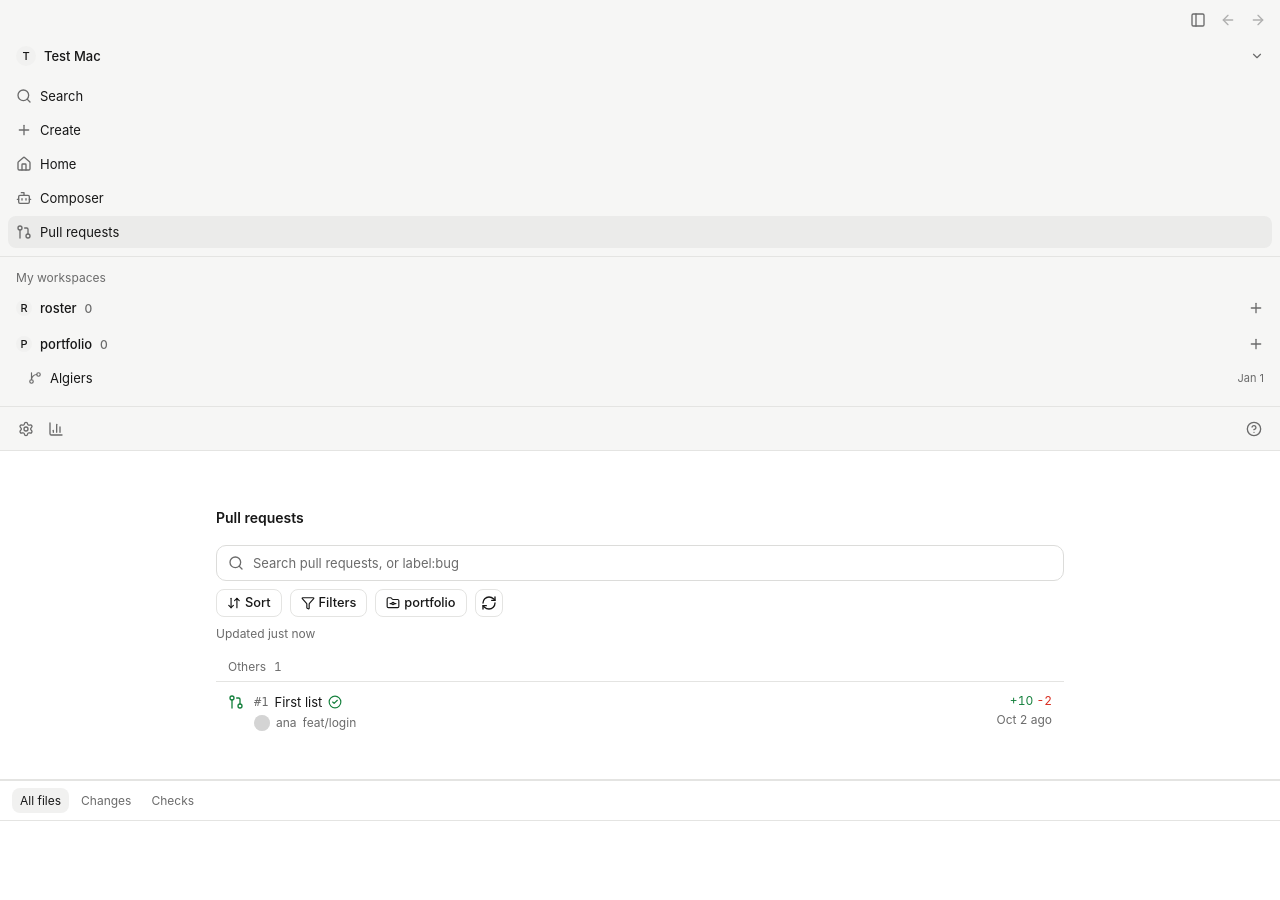
Test: the Pull requests page › keeps the list on screen while another project is loaded
Expected: the button "#1 First list" is shown, [216,684,1064,739]
Click the button "portfolio" at point(421, 603), box [375,589,467,617]
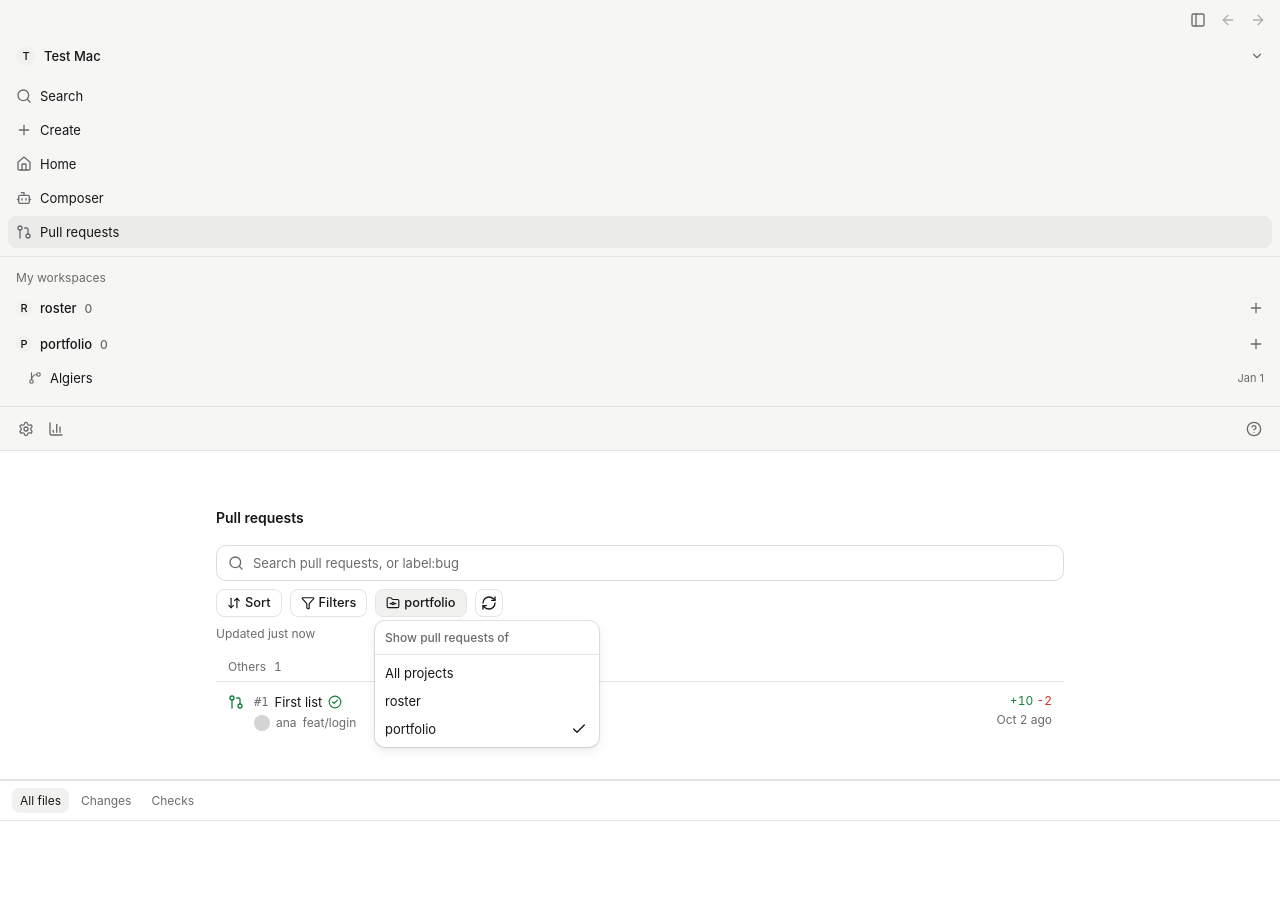
Click the menu item "All projects" at point(419, 673), box [385,665,454,681]
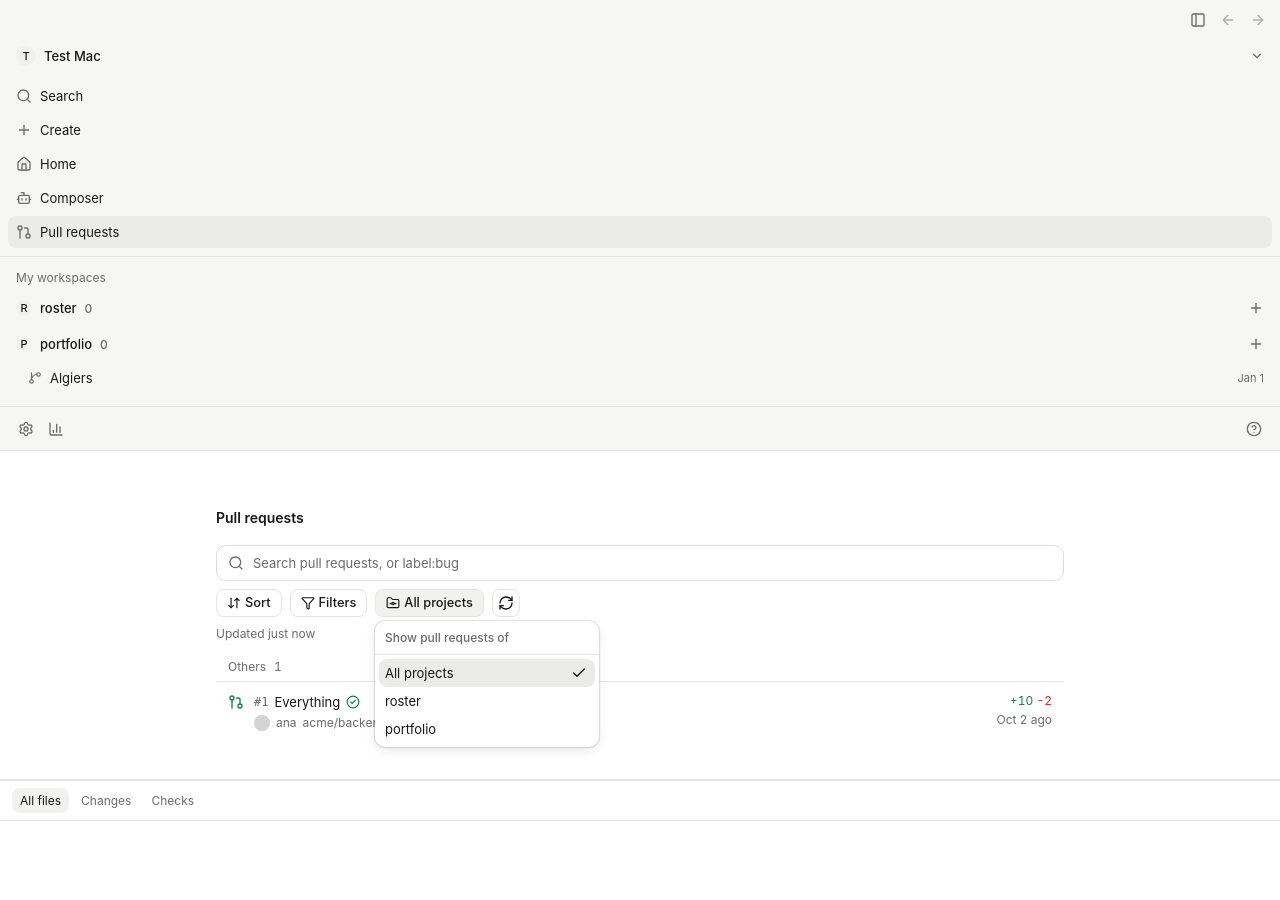
Expected: the button "#1 Everything" is shown, [216,684,1064,739]
